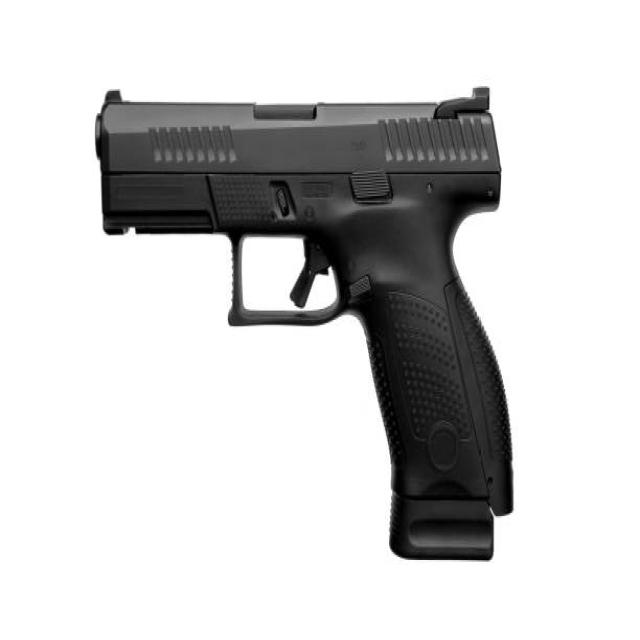pistol: (82, 74, 519, 572)
